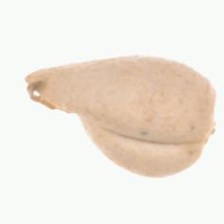L1: (24, 71, 68, 114), (199, 94, 216, 158)
L2: (26, 55, 216, 178)
